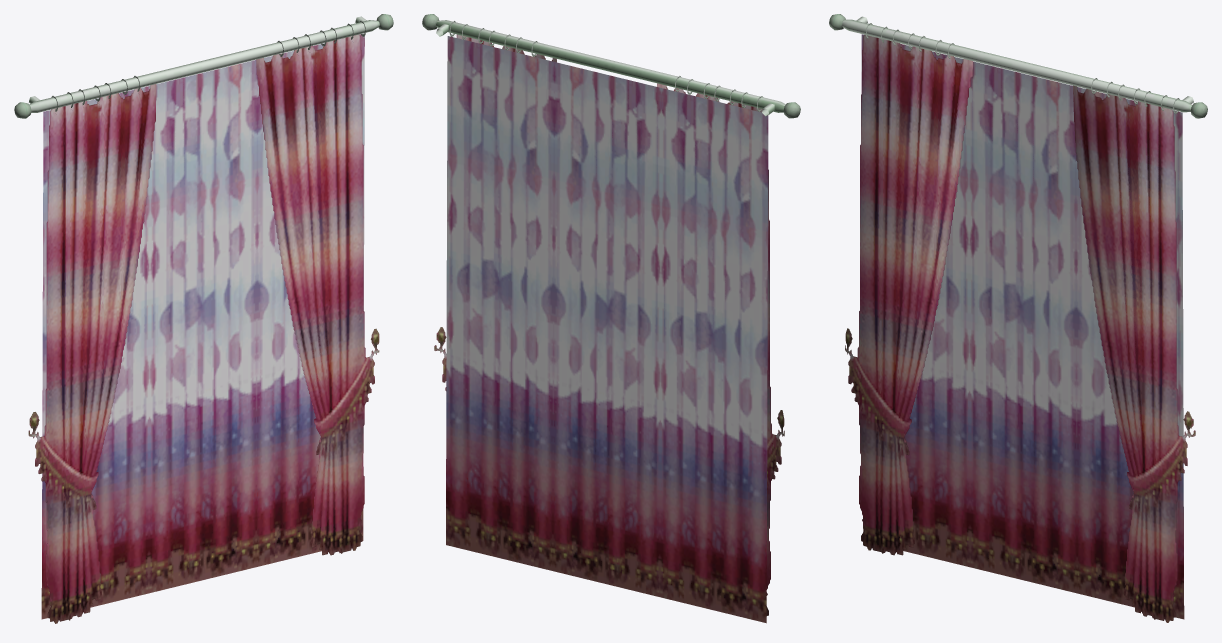
The model's file is furni_0200760.FBX.
The picture shows the model from 3 angles, left to right: view 1: azimuth 30°, elevation 25°; view 2: azimuth 150°, elevation 25°; view 3: azimuth 330°, elevation 25°; orthographic projection.
Visible parts, largest first — view 1: furni_0200760; view 2: furni_0200760; view 3: furni_0200760.
Part boxes in pixels (x1,y1,x2,y2): furni_0200760: [14, 14, 393, 623]; furni_0200760: [422, 14, 800, 623]; furni_0200760: [829, 14, 1207, 622].
Bounding box in the file's own units: 189 × 252 × 11.26.
Materials: 2 (2 with a texture image).
